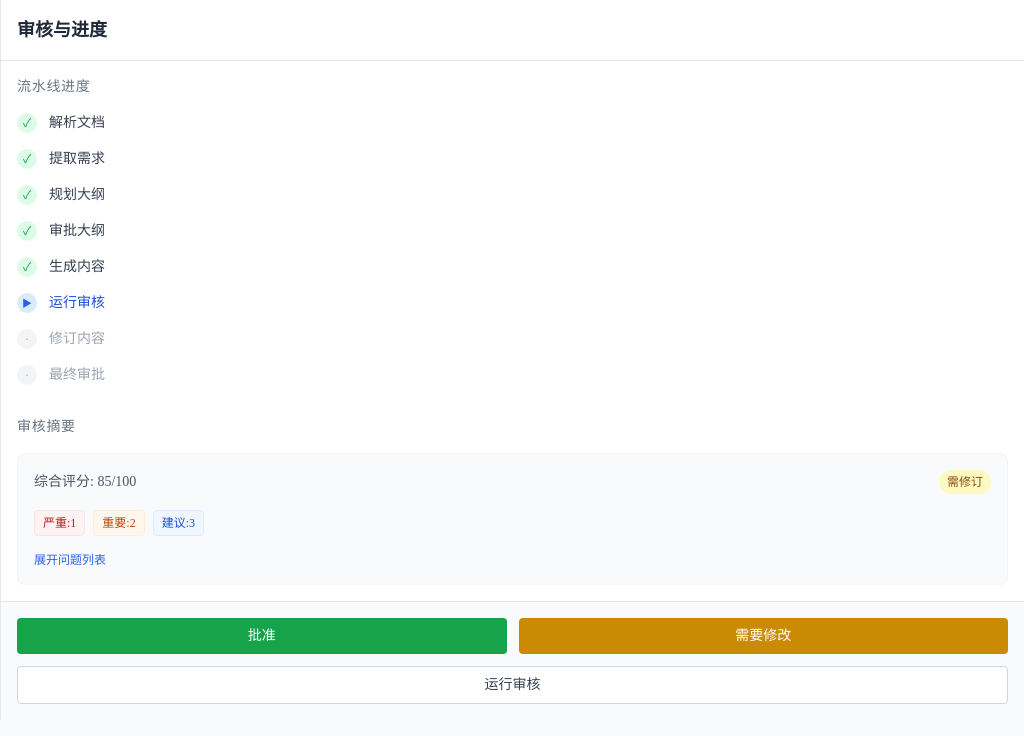
ReviewPanel Component › renders review summary with score and issues
Expected: the heading "审核摘要" is shown, [17, 419, 76, 434]
Expected: the text "综合评分: 85/100" is shown, [34, 472, 136, 492]
# Expand issues
Click the button "展开问题列表".
click(70, 560)  # box [34, 552, 106, 568]
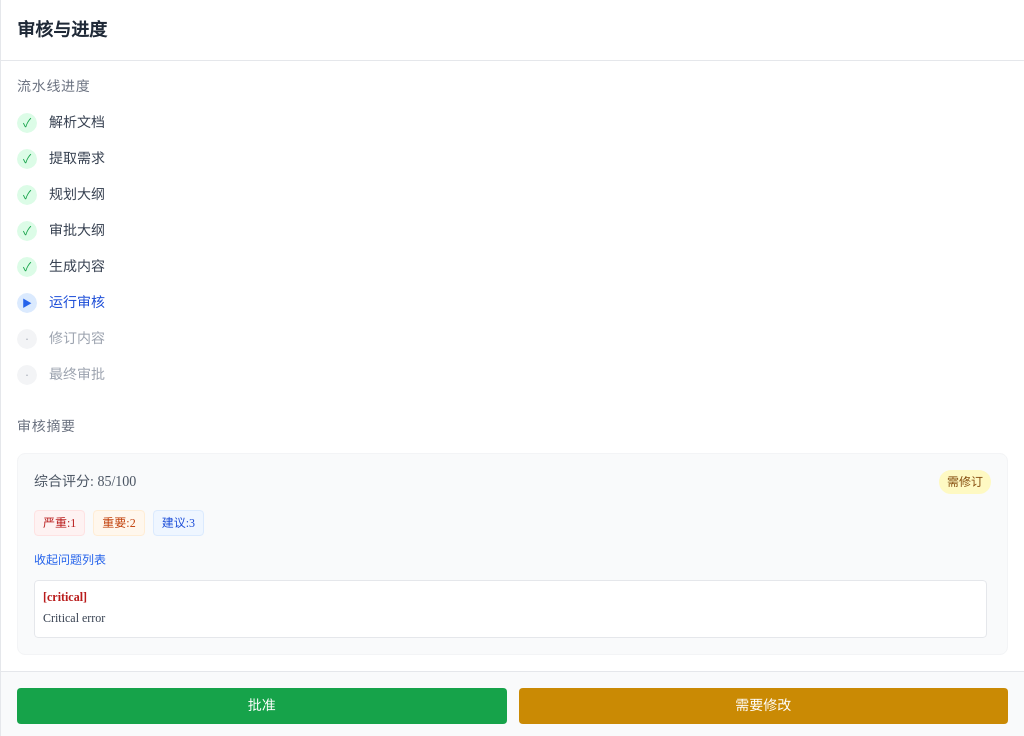
Expected: the text "Critical error" is shown, [43, 611, 105, 625]
